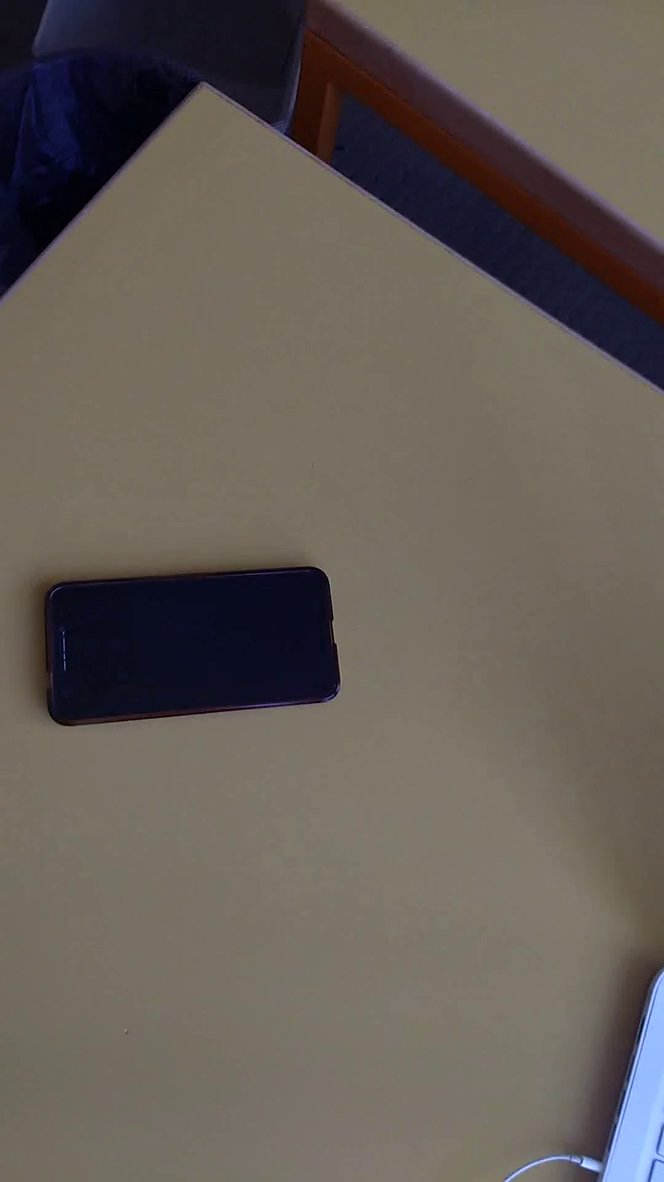phone: (36, 555, 357, 744)
